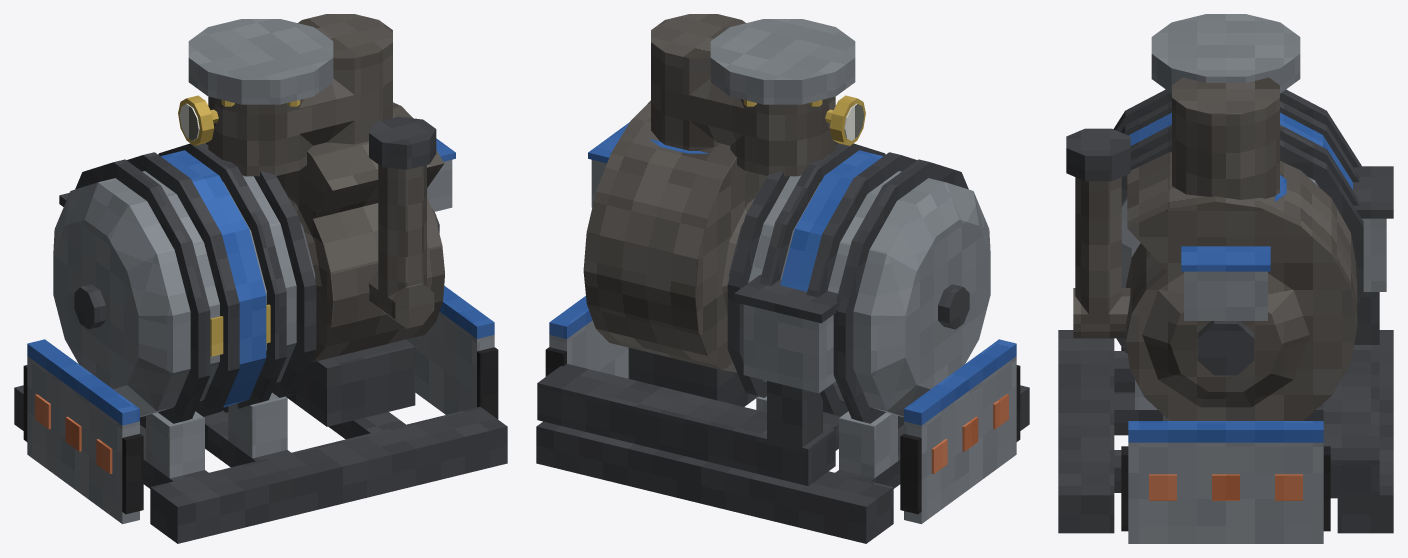
File: steamturbine200v.obj
The picture shows the model from 3 angles, left to right: view 1: azimuth 30°, elevation 25°; view 2: azimuth 150°, elevation 25°; view 3: azimuth 270°, elevation 25°; orthographic projection. The views are drawn at different scales.
Visible parts, largest first — view 1: main; view 2: main; view 3: main.
Part boxes in pixels (x1,y1,x2,y2): main: [14, 14, 507, 543]; main: [536, 14, 1029, 543]; main: [1058, 14, 1393, 543].
Size of the model in its own units: 1 by 1 by 0.75.
1 material, 1 textured.
